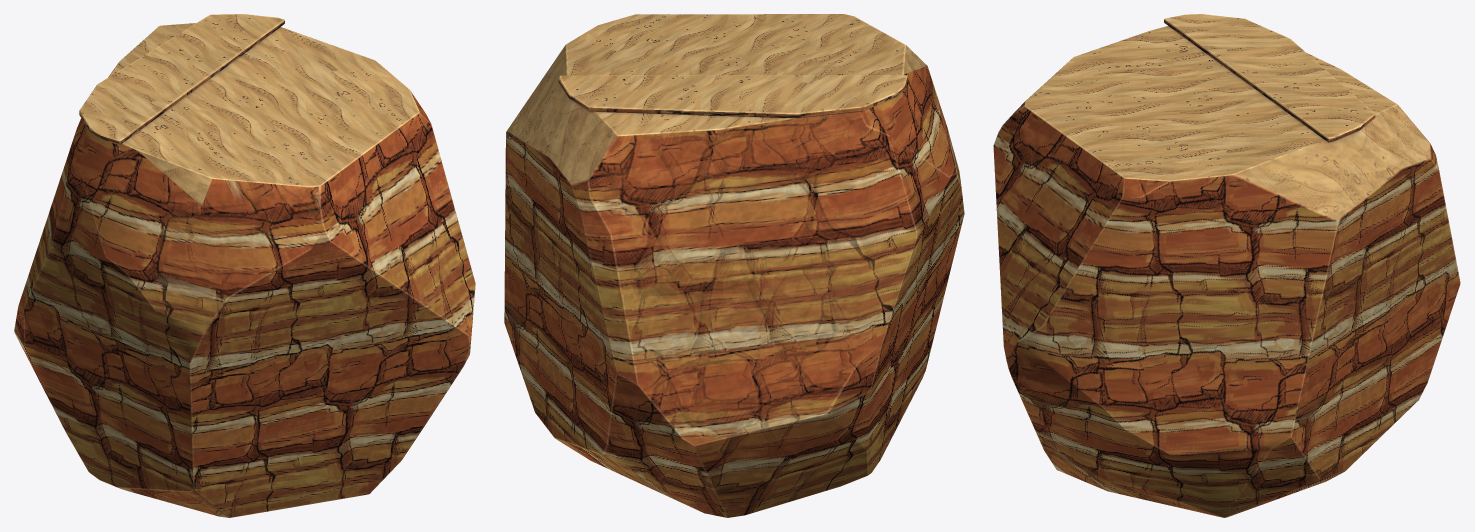
Rendered from v4_rocher_s1w.glb.
3 views of the same model, side by side, from view 1: azimuth 30°, elevation 25°; view 2: azimuth 150°, elevation 25°; view 3: azimuth 270°, elevation 25° (orthographic). The views are drawn at different scales.
Parts seen in each view (by area): view 1: v4_rocher_s1w; view 2: v4_rocher_s1w; view 3: v4_rocher_s1w.
Part boxes in pixels (<box>): v4_rocher_s1w: <box>14,14,475,517</box>; v4_rocher_s1w: <box>504,14,964,517</box>; v4_rocher_s1w: <box>993,14,1460,517</box>.
Size of the model in its own units: 4 by 3.8 by 4.5.
Materials: 1 (1 with a texture image).
